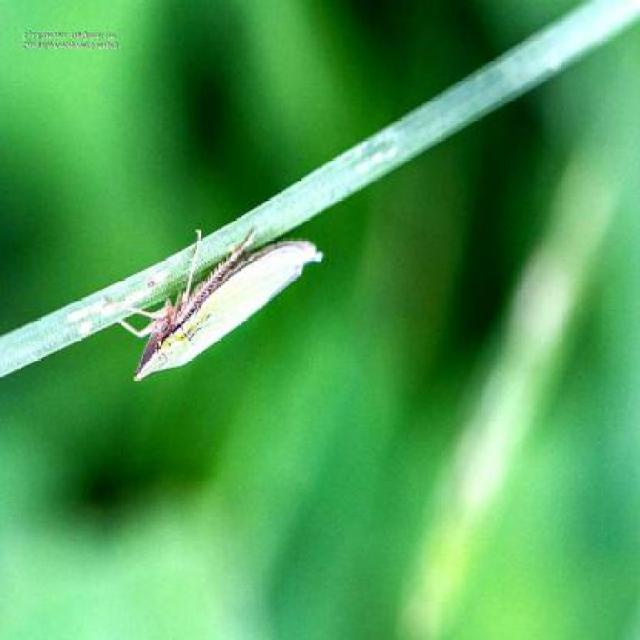green-leafhopper: (137, 217, 328, 385)
